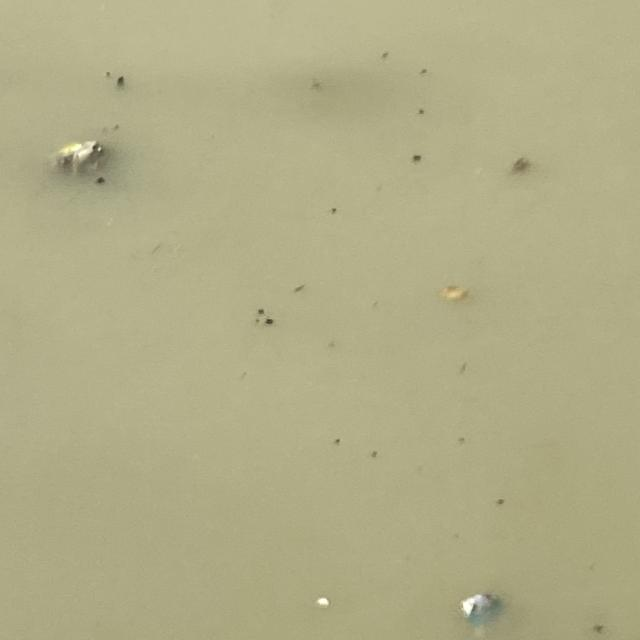Organic Debris: (435, 279, 475, 311)
Plastic: (452, 576, 513, 639), (48, 137, 109, 179), (312, 590, 336, 617)
